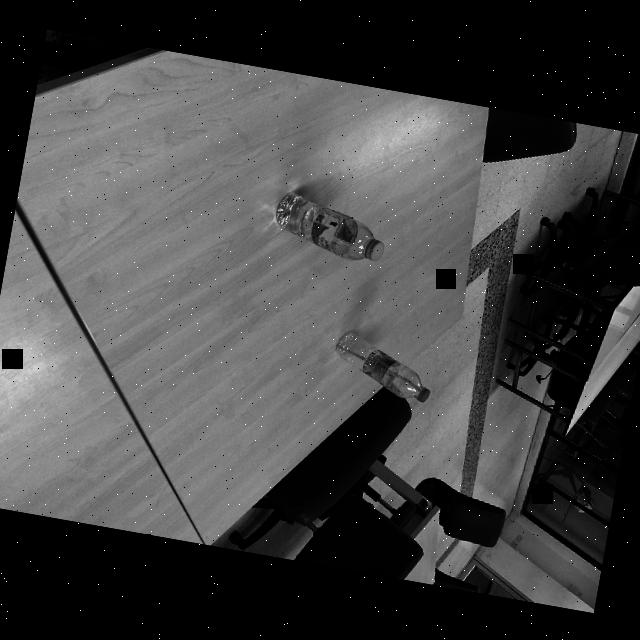plastic_bottle: (267, 185, 394, 266), (326, 326, 442, 404)
plastic_bottle_cap: (362, 236, 387, 261), (416, 384, 432, 402)
